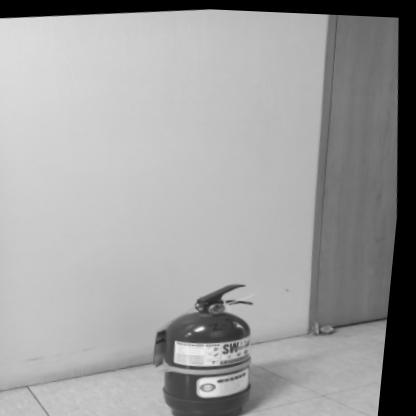FE: (156, 275, 273, 416)
